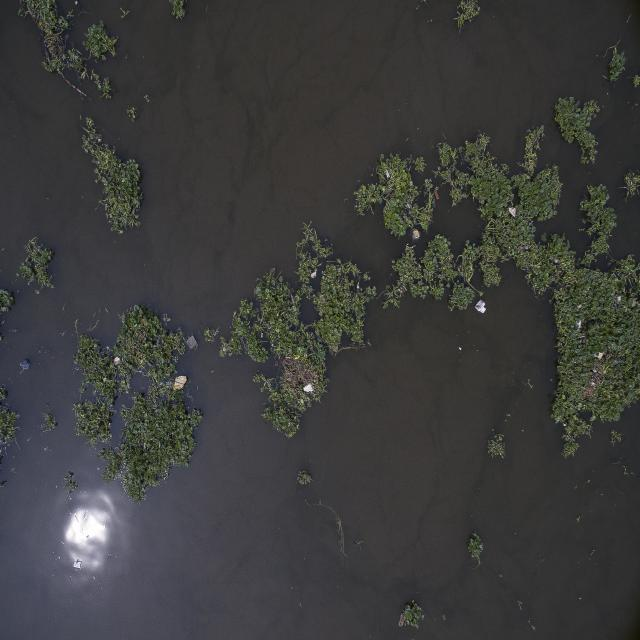debris: (172, 374, 190, 393), (394, 606, 408, 630), (475, 298, 487, 316), (507, 205, 521, 219), (409, 227, 422, 242), (71, 556, 83, 571), (186, 335, 198, 348), (305, 382, 316, 396), (595, 348, 606, 361), (576, 315, 584, 332), (431, 187, 440, 201), (308, 268, 320, 278), (384, 167, 391, 182), (614, 291, 622, 304), (114, 356, 124, 366)
plastic: (17, 355, 34, 373), (323, 235, 331, 247)
